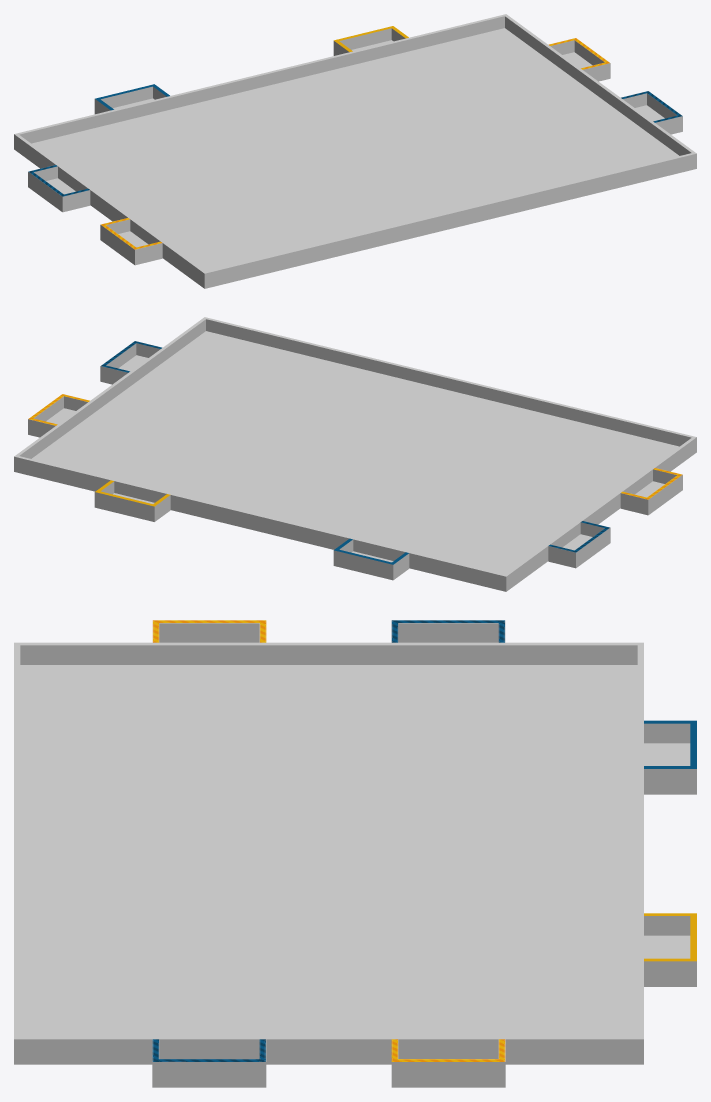
File: table_col.glb
3 views of the same model, one above another, from view 1: azimuth 30°, elevation 25°; view 2: azimuth 150°, elevation 25°; view 3: azimuth 270°, elevation 25° (orthographic). The views are drawn at different scales.
Visible parts, largest first — view 1: TableCol; view 2: TableCol; view 3: TableCol.
Part boxes in pixels (x1,y1,x2,y2): TableCol: (14, 14, 696, 288); TableCol: (14, 317, 696, 591); TableCol: (14, 620, 696, 1087).
Size of the model in its own units: 3.38 by 0.092 by 2.21.
Materials: 5 (2 with a texture image).
